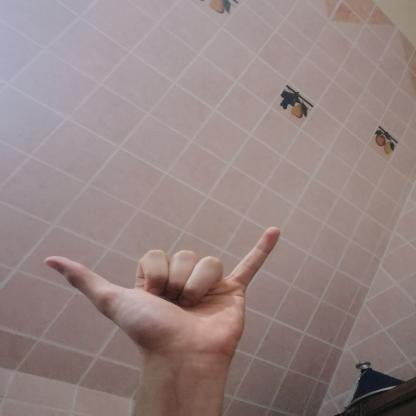YA: (25, 214, 303, 375)
